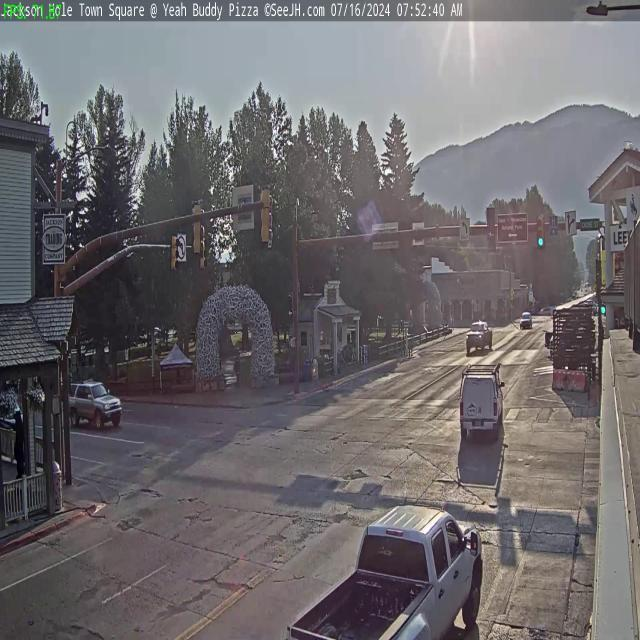motorcycle: (13, 411, 27, 482)
person: (284, 499, 484, 640), (466, 320, 493, 353)
sedan: (68, 381, 122, 432)
suv: (258, 186, 273, 246), (190, 200, 203, 256), (486, 208, 496, 250), (170, 235, 179, 273), (536, 214, 544, 248), (200, 238, 208, 270)
traffic light: (459, 362, 504, 440)
